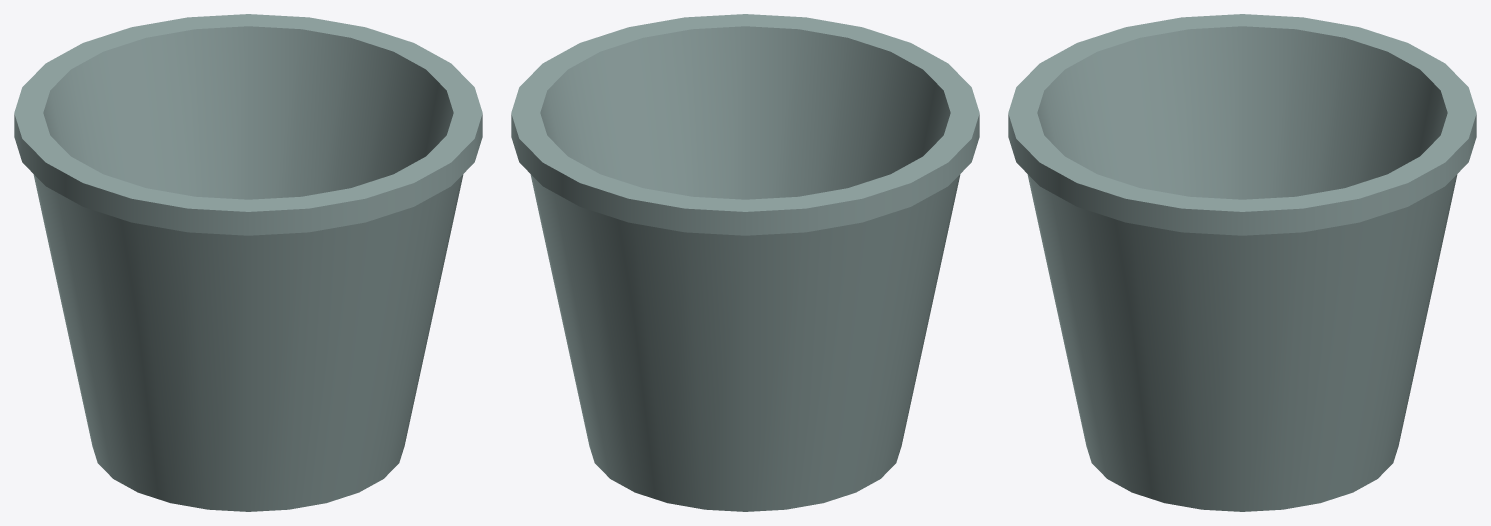
The model's file is pot_teal.fbx.
The picture shows the model from 3 angles, left to right: view 1: azimuth 30°, elevation 25°; view 2: azimuth 150°, elevation 25°; view 3: azimuth 270°, elevation 25°; orthographic projection.
Visible parts, largest first — view 1: pot_teal; view 2: pot_teal; view 3: pot_teal.
Boxes of the visible parts, <box> form: pot_teal: <box>14,14,482,511</box>; pot_teal: <box>511,14,979,511</box>; pot_teal: <box>1008,14,1476,511</box>.
Size of the model in its own units: 0.357 by 0.28 by 0.357.
